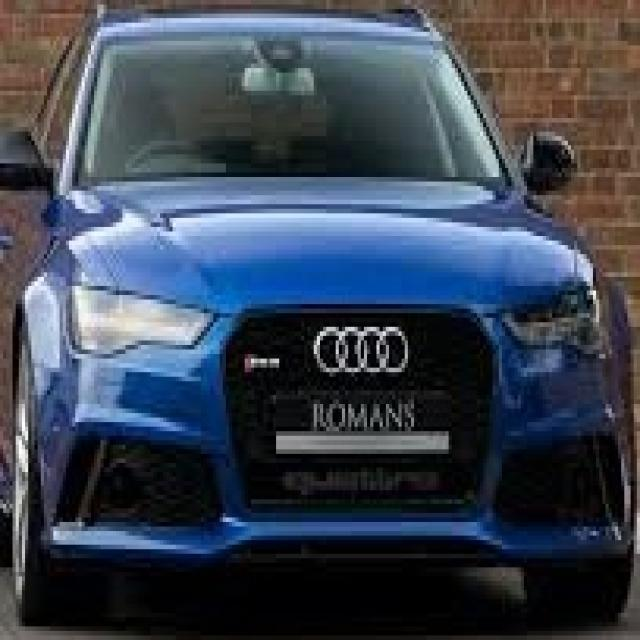blue: (0, 5, 637, 618)
